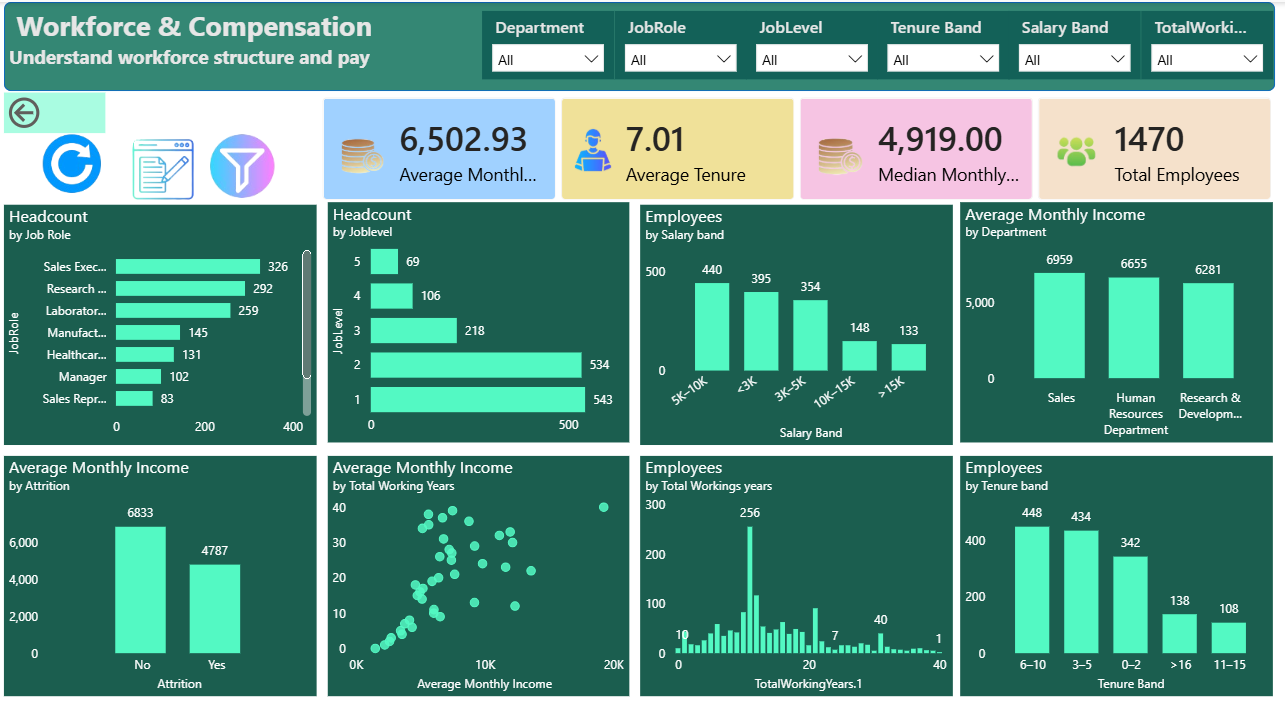

Layout of this report page (visuals, bound fields, positions):
{"tool":"powerbi","page":{"name":" WORKFORCE & COMPENSATION","canvas":[1280,720],"ordinal":4},"visuals":[{"type":"shape","box":[9.1,0,1253,87.9],"z":0},{"type":"textbox","box":[9,0,450.6,101.5],"z":1000},{"type":"slicer","fields":{"Values":["HR.Department"]},"box":[480.4,9,130,67.1],"z":2000},{"type":"slicer","fields":{"Values":["HR.JobRole"]},"box":[610.2,9,130,67.1],"z":3000},{"type":"slicer","fields":{"Values":["HR.JobLevel"]},"box":[740,9,130,67.1],"z":4000},{"type":"slicer","fields":{"Values":["HR.Tenure Band"]},"box":[869.8,9,130,67.1],"z":5000},{"type":"slicer","fields":{"Values":["HR.Salary Band"]},"box":[999.6,9,130,67.1],"z":6000},{"type":"slicer","fields":{"Values":["HR.TotalWorkingYears.1"]},"box":[1129.4,9,130,67.1],"z":7000},{"type":"cardVisual","fields":{"Data":["#MEASURES.Average Monthly Income","#MEASURES.Average Tenure","#MEASURES.Median Monthly Income","#MEASURES.Total Employees"]},"box":[317.6,88.8,945.1,111.5],"z":8000},{"type":"clusteredBarChart","title":"Headcount","fields":{"Category":["HR.JobRole"],"Y":["#MEASURES.Total Employees"]},"box":[9,199.9,308,237.1],"z":9000},{"type":"clusteredBarChart","title":"Headcount","fields":{"Category":["HR.JobLevel"],"Y":["#MEASURES.Total Employees"]},"box":[328.2,196.9,296.9,237.2],"z":10000},{"type":"clusteredColumnChart","title":"Employees","fields":{"Category":["HR.Salary Band"],"Y":["#MEASURES.Total Employees"]},"box":[635.6,199.9,308,237.1],"z":11000},{"type":"clusteredColumnChart","title":"Average Monthly Income","fields":{"Category":["HR.Department"],"Y":["#MEASURES.Average Monthly Income"]},"box":[951.8,196.9,308,237.1],"z":12000},{"type":"clusteredColumnChart","title":"Average Monthly Income","fields":{"Category":["HR.Attrition"],"Y":["#MEASURES.Average Monthly Income"]},"box":[9,447.6,308,237.1],"z":13000},{"type":"scatterChart","title":"Average Monthly Income","fields":{"X":["#MEASURES.Average Monthly Income"],"Y":["HR.TotalWorkingYears.1"]},"box":[328.2,447.6,296.9,237.2],"z":14000},{"type":"clusteredColumnChart","title":"Employees","fields":{"Category":["HR.TotalWorkingYears.1"],"Y":["#MEASURES.Total Employees"]},"box":[635.6,447.6,308,237.1],"z":15000},{"type":"clusteredColumnChart","title":"Employees","fields":{"Category":["HR.Tenure Band"],"Y":["#MEASURES.Total Employees"]},"box":[951.8,447.6,308,237.1],"z":16000},{"type":"actionButton","box":[9,89.5,100,40],"z":17000},{"type":"image","box":[32.8,120.8,92.6,75.6],"z":18000},{"type":"image","box":[125.3,126.8,79.4,75.6],"z":19000},{"type":"image","box":[204.4,119.4,77.6,77.6],"z":21000}]}

Visuals, with their boxes in screenshot pixels (x1, y1, x2, y2), scaled from the page's 1280x720 canvas onto the 1285x703 screenshot:
shape: 9,0,1267,86
textbox: 9,0,461,99
slicer - HR.Department: 482,9,613,74
slicer - HR.JobRole: 613,9,743,74
slicer - HR.JobLevel: 743,9,873,74
slicer - HR.Tenure Band: 873,9,1004,74
slicer - HR.Salary Band: 1004,9,1134,74
slicer - HR.TotalWorkingYears.1: 1134,9,1264,74
cardVisual - #MEASURES.Average Monthly Income x #MEASURES.Average Tenure: 319,87,1268,196
"Headcount" clusteredBarChart: 9,195,318,427
"Headcount" clusteredBarChart: 329,192,628,424
"Employees" clusteredColumnChart: 638,195,947,427
"Average Monthly Income" clusteredColumnChart: 956,192,1265,424
"Average Monthly Income" clusteredColumnChart: 9,437,318,669
"Average Monthly Income" scatterChart: 329,437,628,669
"Employees" clusteredColumnChart: 638,437,947,669
"Employees" clusteredColumnChart: 956,437,1265,669
actionButton: 9,87,109,126
image: 33,118,126,192
image: 126,124,205,198
image: 205,117,283,192
